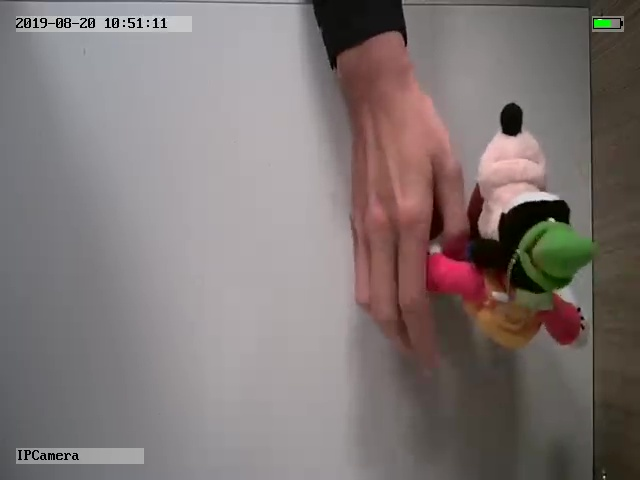goofy: (428, 101, 599, 349)
